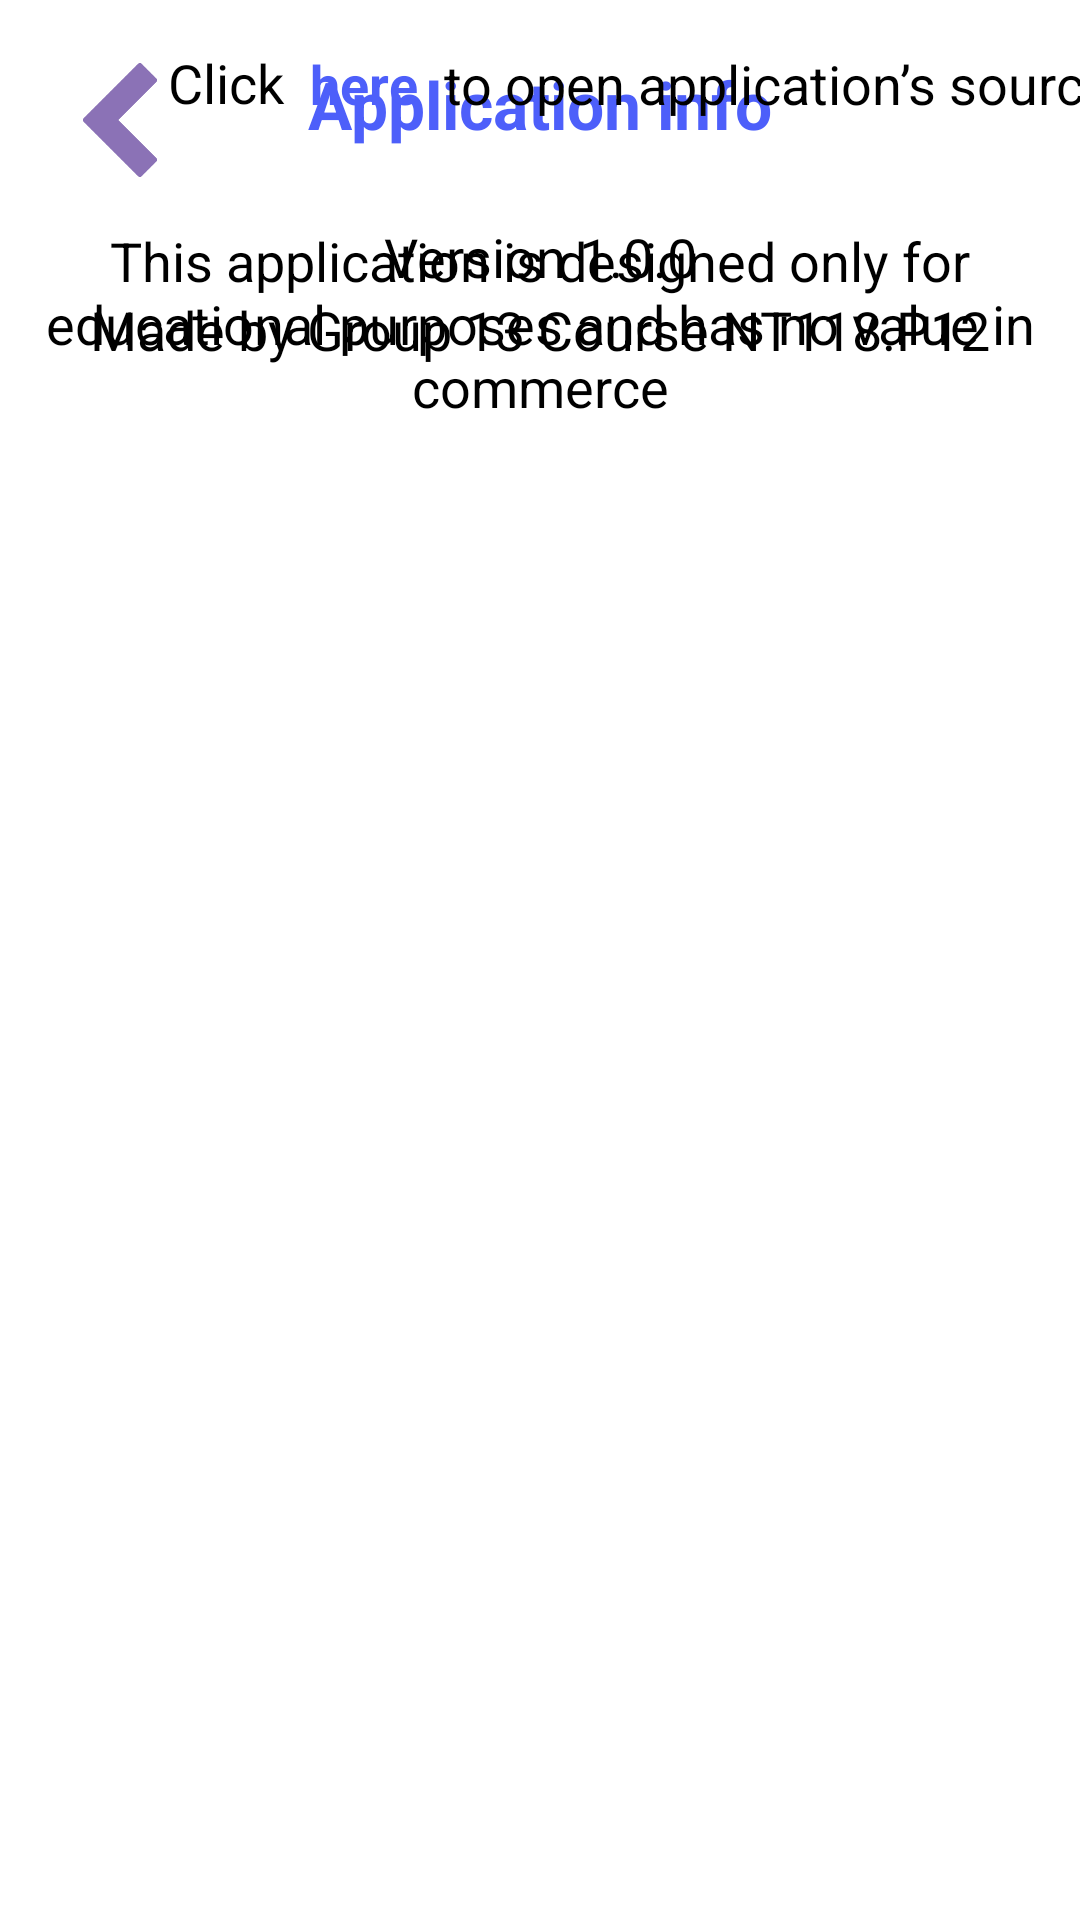

Screen size 1080*1920. Icon name, then its box in pixels as bbox=[x1, y1, x2, y2]:
arrow: bbox=[83, 63, 157, 177]
